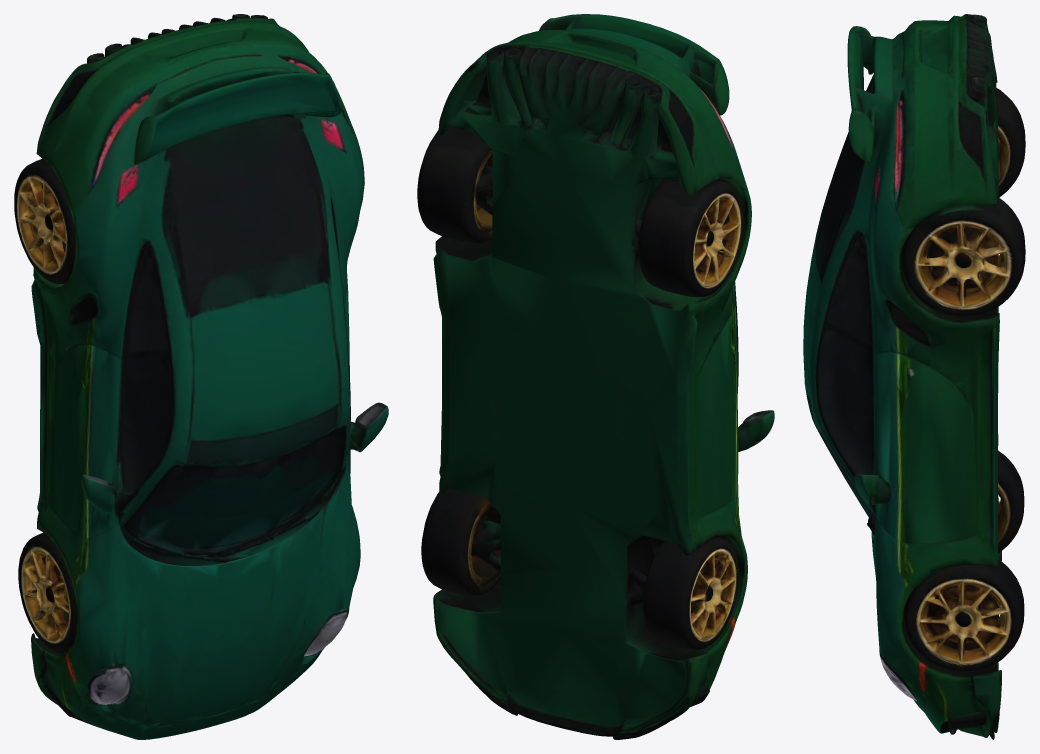
The model's file is car.glb.
3 views of the same model, side by side, from view 1: azimuth 30°, elevation 25°; view 2: azimuth 150°, elevation 25°; view 3: azimuth 270°, elevation 25° (orthographic). The views are drawn at different scales.
Visible parts, largest first — view 1: material; view 2: material; view 3: material.
Boxes of the visible parts, x1,y1,x2,y2 form: material: (14, 14, 388, 739); material: (417, 14, 774, 739); material: (803, 14, 1025, 739).
Bounding box in the file's own units: 6.14 × 13.5 × 4.06.
Materials: 1 (1 with a texture image).
